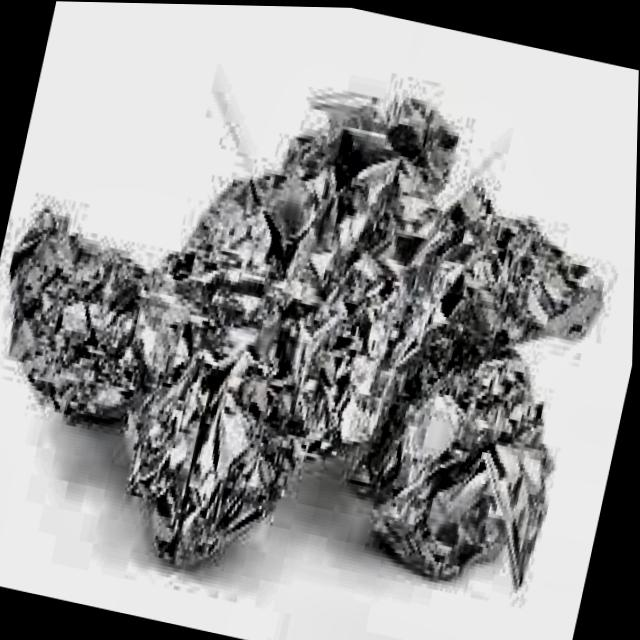Foil: (0, 9, 640, 637)
